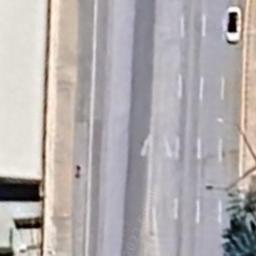sedan: (226, 6, 242, 44)
